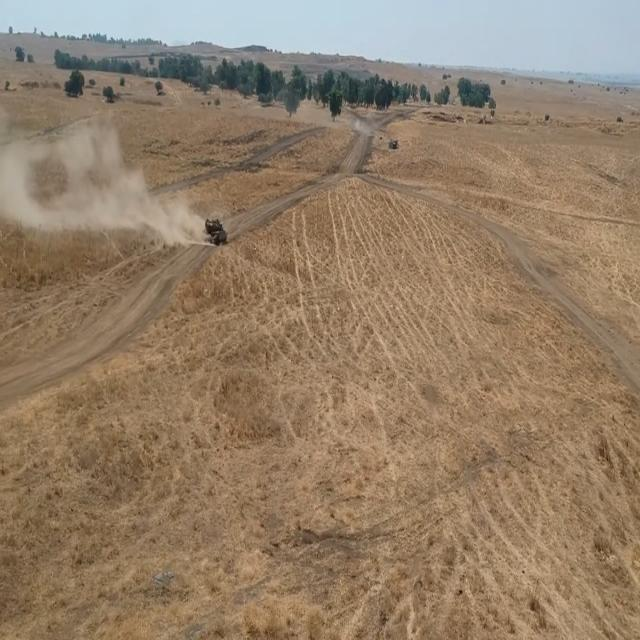tank: (203, 213, 228, 254)
